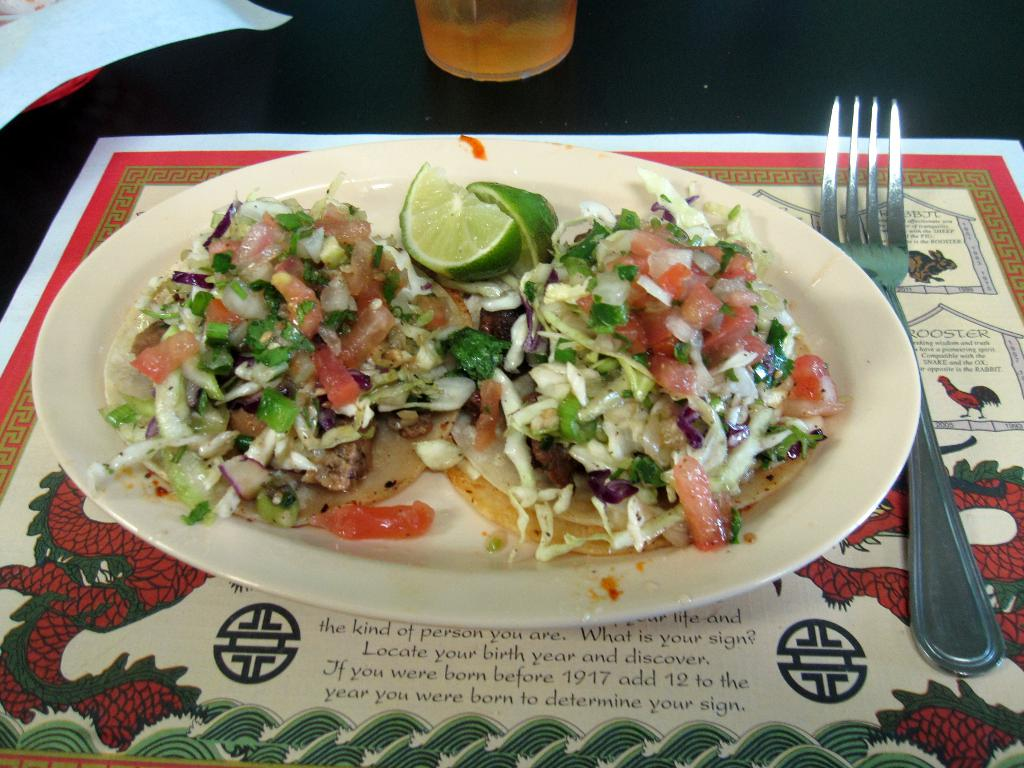taco: (72, 172, 881, 564)
